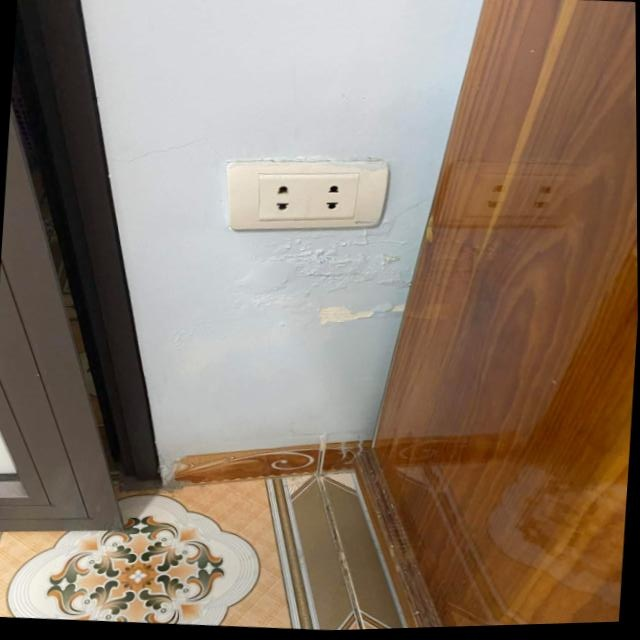outlet: (220, 149, 391, 243)
